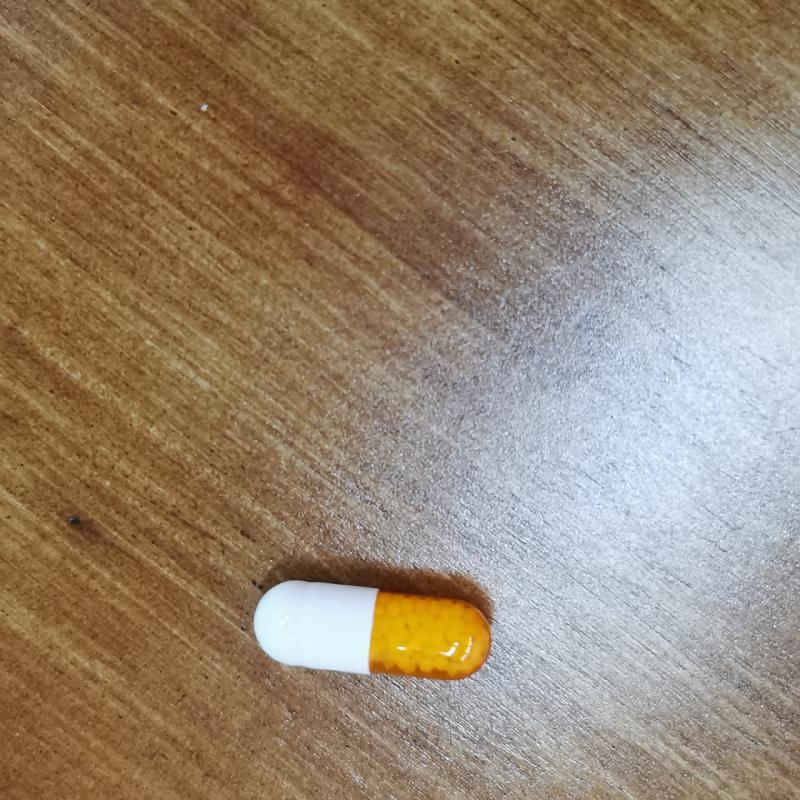pills: (232, 562, 513, 716)
